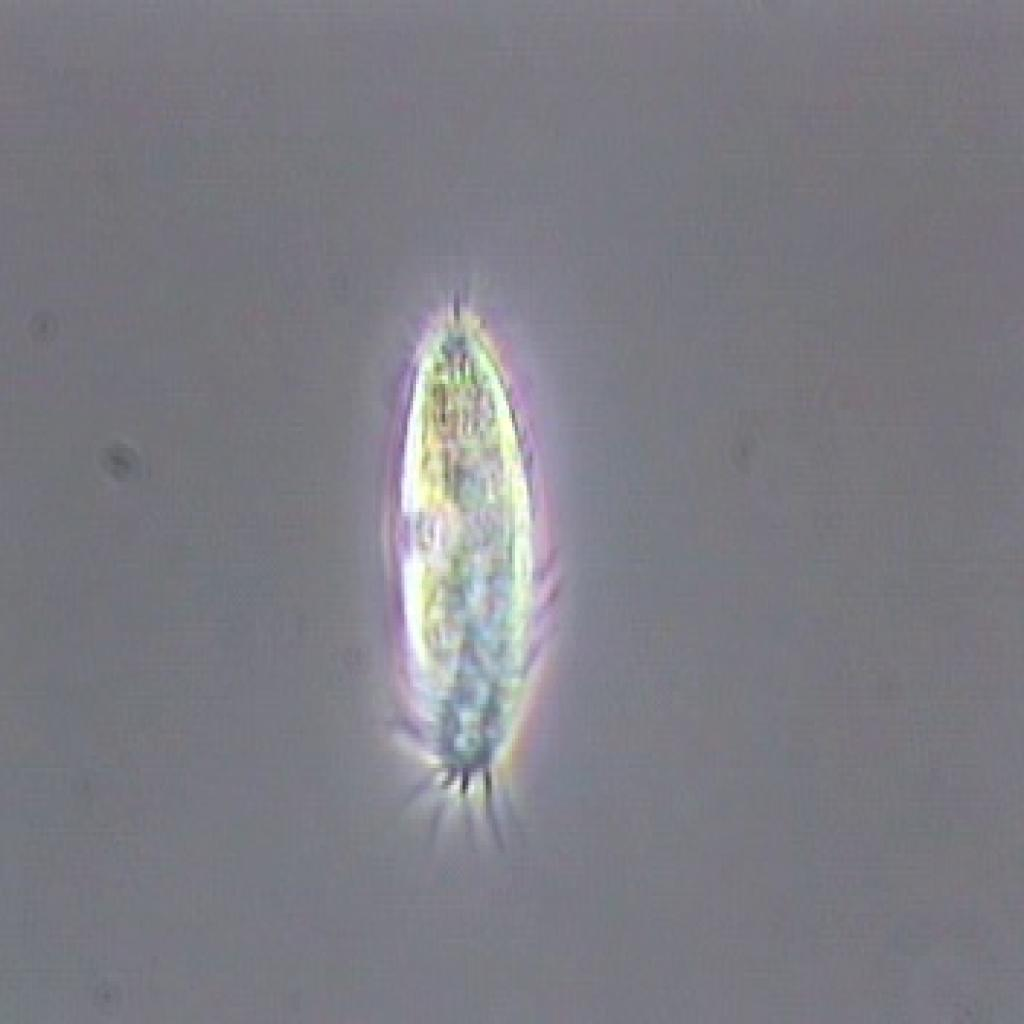Stylonychia: (327, 239, 589, 883)
